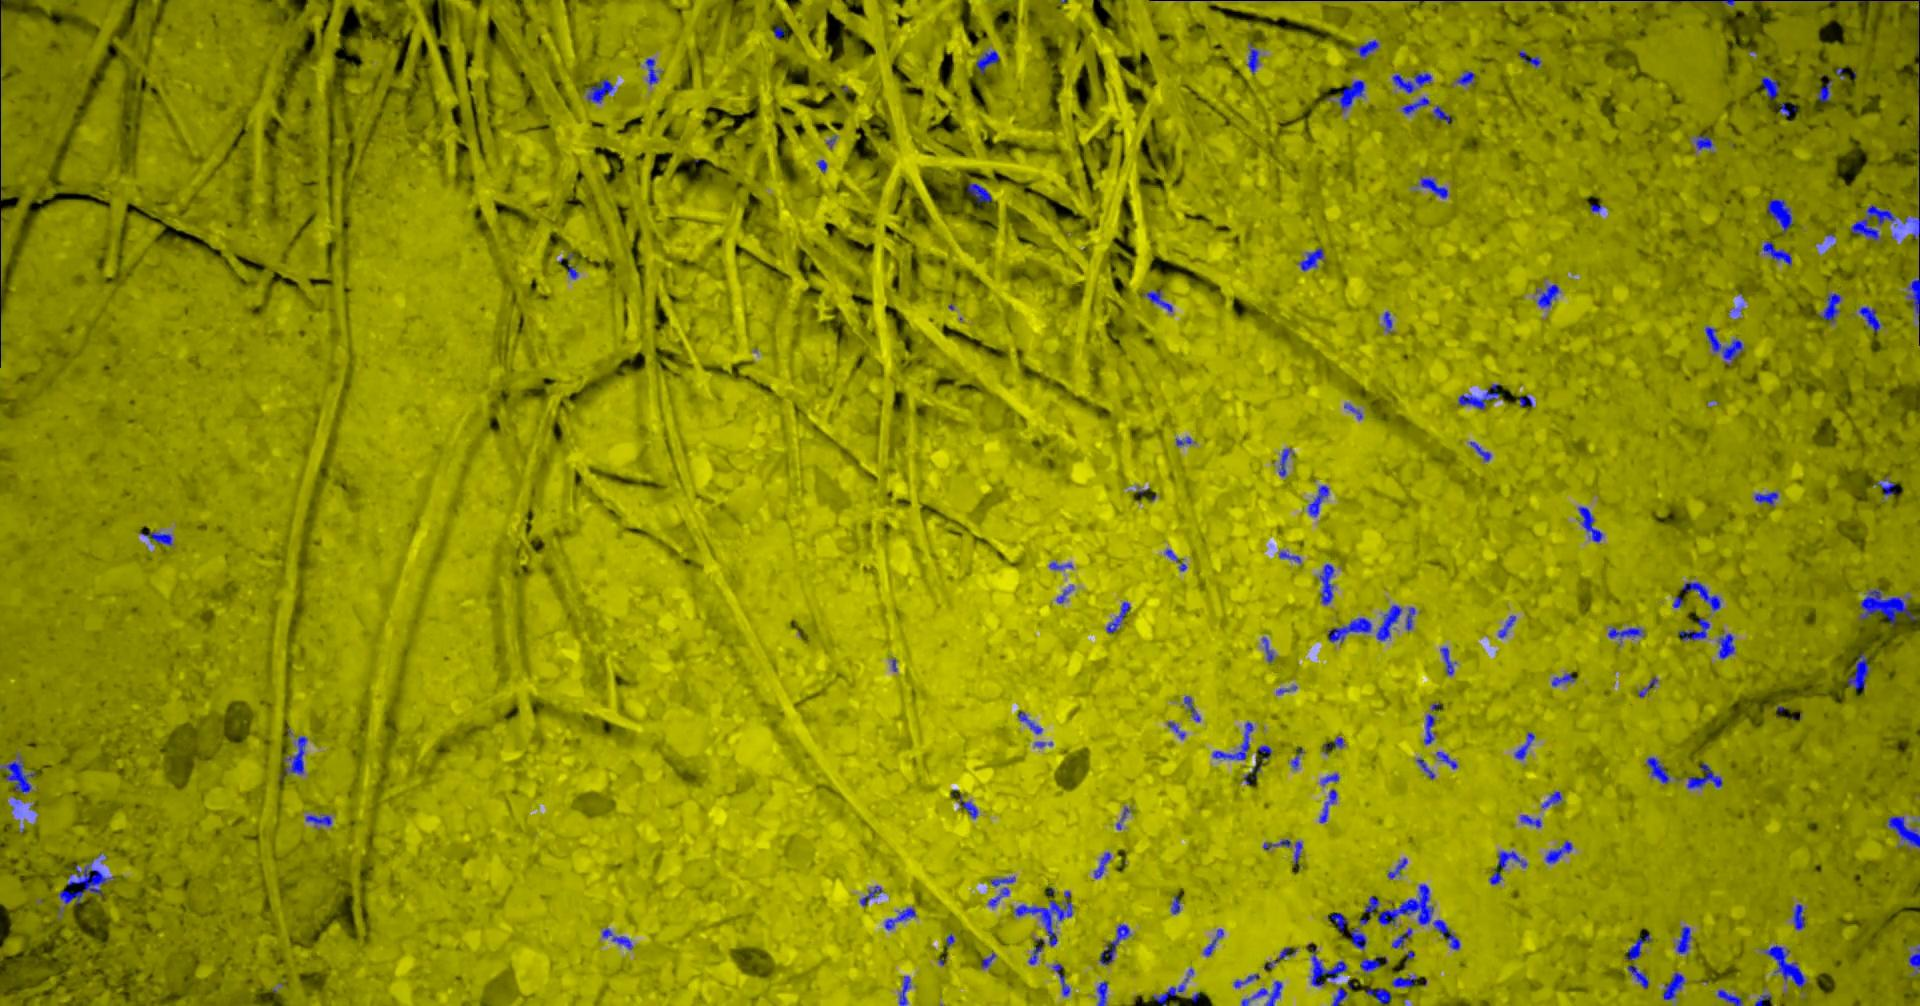ant: (1012, 890, 1072, 964), (58, 861, 114, 904), (1859, 588, 1915, 626), (1763, 944, 1804, 987), (1850, 205, 1901, 240), (1307, 942, 1346, 986), (1211, 721, 1253, 760), (1152, 968, 1192, 1005), (1704, 326, 1742, 365), (0, 756, 36, 793), (1098, 923, 1129, 964), (1262, 840, 1302, 869), (1681, 580, 1719, 610), (1327, 617, 1371, 641), (1457, 384, 1498, 409), (1241, 981, 1283, 1005), (1887, 815, 1919, 847), (1577, 506, 1603, 542), (1375, 605, 1401, 640), (283, 735, 306, 774), (1688, 762, 1722, 788), (1768, 198, 1792, 232), (1338, 79, 1364, 111), (1392, 72, 1431, 93), (1848, 653, 1869, 690), (1106, 601, 1130, 633), (1677, 617, 1709, 640), (585, 77, 613, 103), (1761, 240, 1790, 264), (884, 907, 916, 929), (601, 927, 632, 949), (1263, 948, 1295, 969), (1624, 934, 1650, 960), (1297, 246, 1324, 271), (1817, 293, 1840, 323), (1142, 290, 1172, 311), (1307, 485, 1328, 516), (1423, 702, 1439, 744), (1418, 177, 1448, 198), (1905, 278, 1919, 323), (1646, 756, 1669, 782), (1545, 840, 1572, 862), (1608, 625, 1644, 641), (1514, 730, 1534, 760), (1051, 963, 1069, 996), (1319, 563, 1333, 605), (975, 50, 999, 74), (1662, 972, 1684, 998), (1319, 788, 1336, 822), (1496, 850, 1528, 868), (1858, 306, 1879, 332), (1017, 711, 1043, 733), (1203, 929, 1223, 955), (1537, 283, 1558, 307), (1627, 964, 1648, 988), (1401, 97, 1429, 114), (1439, 647, 1457, 674), (858, 885, 883, 906), (1351, 39, 1378, 57), (968, 182, 990, 202), (138, 531, 171, 545), (1717, 633, 1735, 658), (1183, 695, 1200, 721), (1093, 851, 1110, 878), (1873, 475, 1895, 495), (1277, 448, 1293, 476), (1365, 988, 1390, 1005), (1469, 441, 1490, 461), (1637, 677, 1657, 697), (1387, 857, 1407, 878), (1390, 927, 1411, 948), (1760, 76, 1779, 98), (988, 887, 1010, 906), (1517, 50, 1540, 67), (959, 795, 977, 818), (1676, 926, 1691, 953), (1246, 42, 1258, 72), (1717, 989, 1742, 1005), (1497, 615, 1515, 636), (1322, 735, 1343, 753), (898, 976, 910, 1005), (1775, 102, 1796, 119), (1436, 751, 1457, 768), (1416, 758, 1434, 779), (1330, 912, 1347, 932), (1350, 927, 1366, 949), (644, 58, 658, 84), (1233, 973, 1258, 987), (1817, 79, 1832, 102), (1903, 216, 1919, 239), (1669, 0, 1735, 5), (1359, 956, 1380, 972), (1792, 903, 1804, 929), (1390, 974, 1416, 987), (1754, 492, 1777, 506), (1542, 791, 1561, 808), (1550, 673, 1575, 686), (305, 814, 331, 826), (1057, 586, 1073, 603), (1167, 721, 1185, 738), (1331, 987, 1347, 1005), (1432, 105, 1451, 121), (1096, 981, 1107, 1005), (1520, 814, 1542, 827), (1457, 70, 1474, 85), (1694, 135, 1713, 149), (1277, 550, 1300, 561), (1262, 636, 1272, 662), (980, 951, 996, 968), (1404, 607, 1415, 630), (1909, 948, 1919, 970), (568, 253, 577, 278), (990, 876, 1015, 885), (1488, 868, 1501, 884), (1321, 774, 1338, 785), (1257, 746, 1271, 760), (1752, 995, 1771, 1005), (1048, 561, 1072, 569), (1517, 395, 1531, 406), (1170, 895, 1178, 913), (1383, 311, 1390, 332), (1855, 0, 1919, 1)
